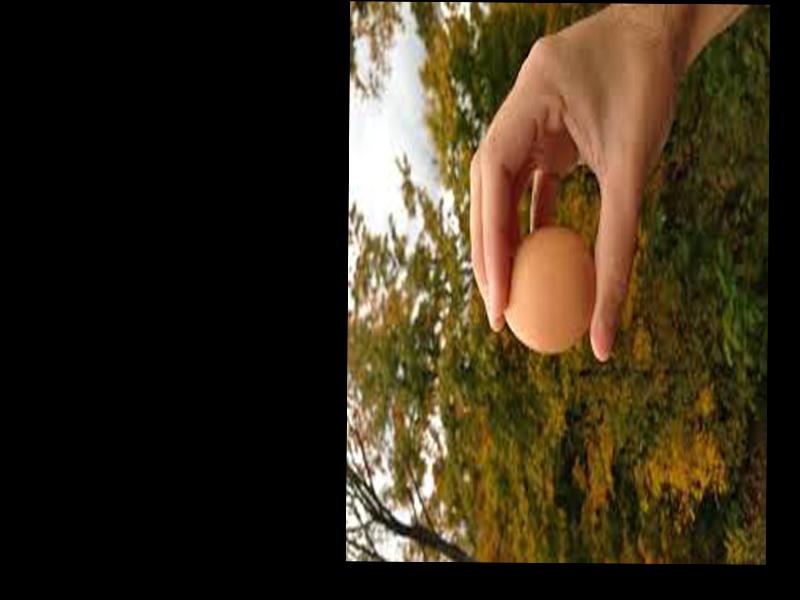Eggs: (501, 228, 596, 352)
